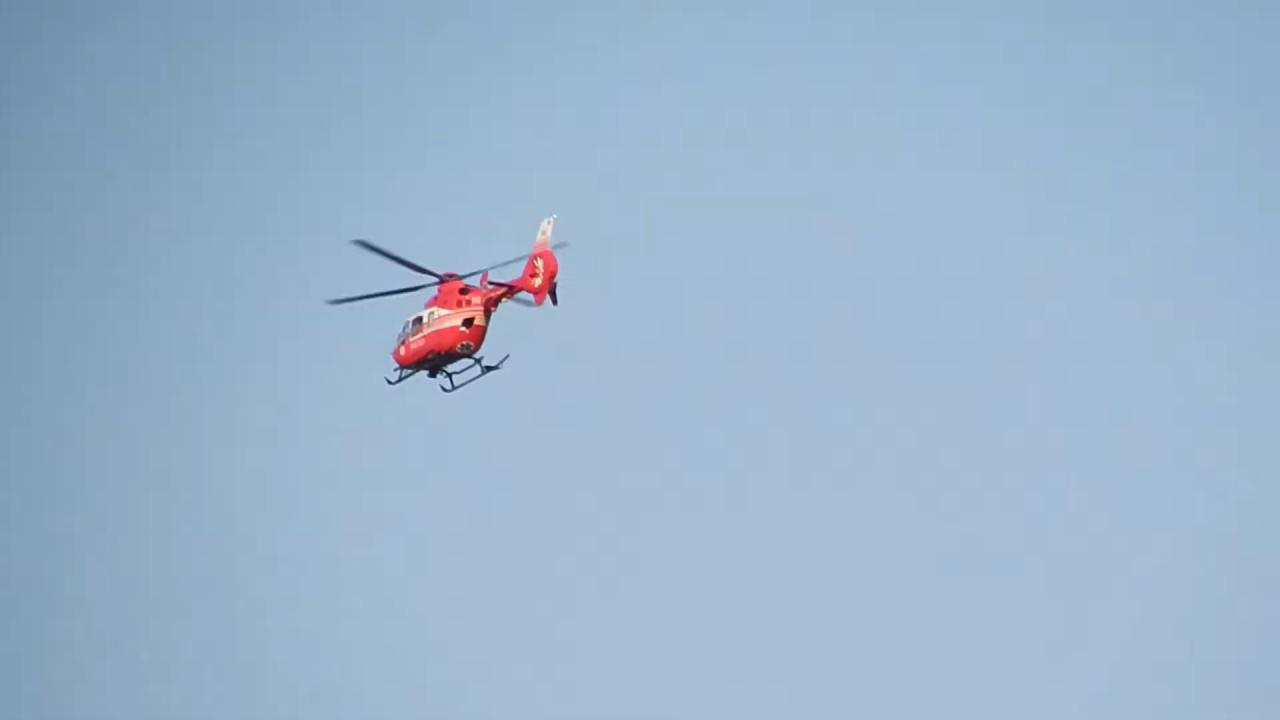Helicopter: (316, 203, 580, 403)
